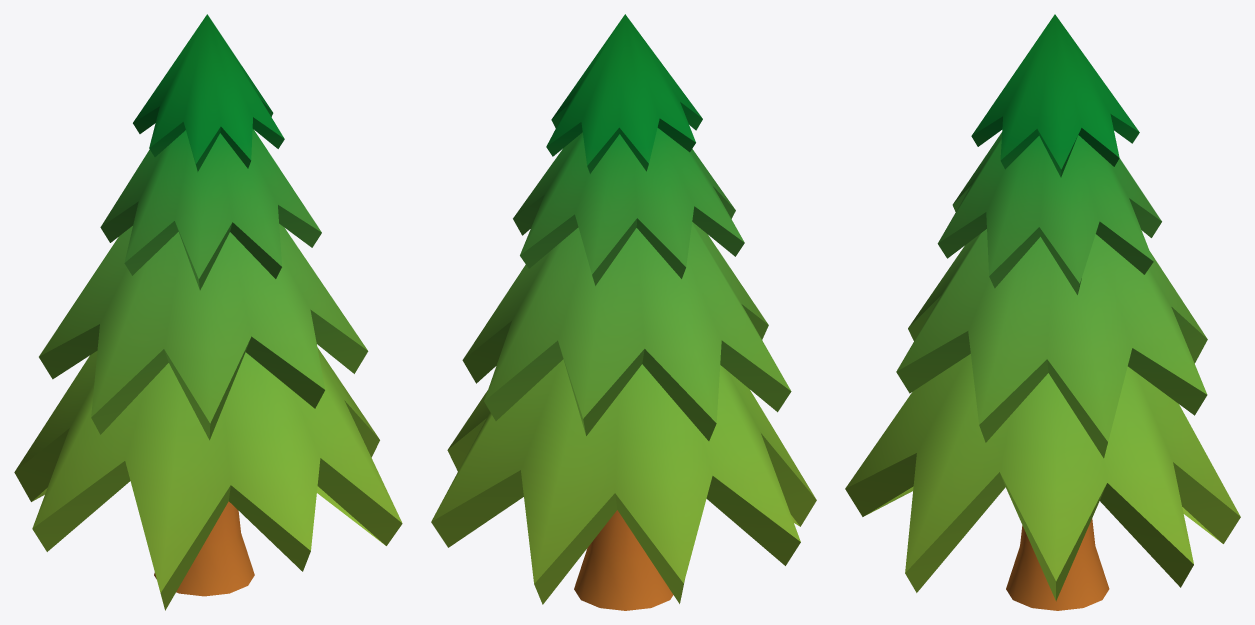
The model's file is sapin-11.glb.
3 views of the same model, side by side, from view 1: azimuth 30°, elevation 25°; view 2: azimuth 150°, elevation 25°; view 3: azimuth 270°, elevation 25° (orthographic). The views are drawn at different scales.
Visible parts, largest first — view 1: Tree_03.1_Material_main_0; view 2: Tree_03.1_Material_main_0; view 3: Tree_03.1_Material_main_0.
Boxes of the visible parts, x1,y1,x2,y2 form: Tree_03.1_Material_main_0: [14, 14, 402, 610]; Tree_03.1_Material_main_0: [431, 14, 816, 610]; Tree_03.1_Material_main_0: [845, 14, 1240, 610].
Size of the model in its own units: 2.12 by 3.27 by 2.04.
1 material, 1 textured.
